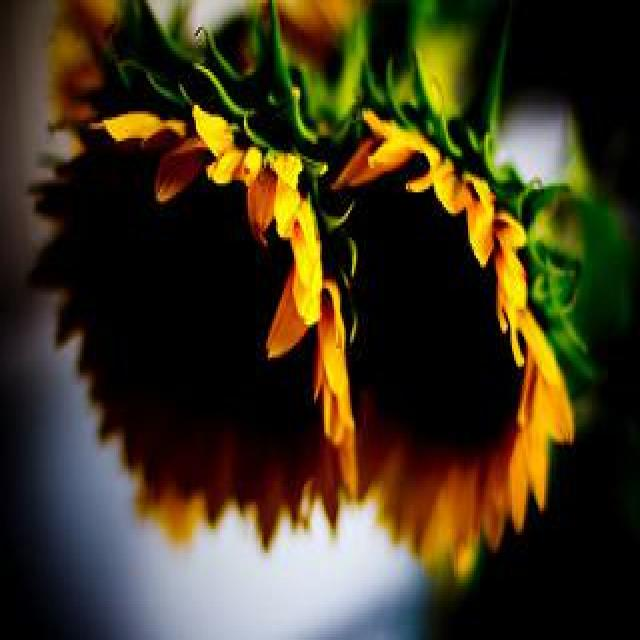sunflower: (22, 108, 350, 552), (329, 105, 575, 587)
